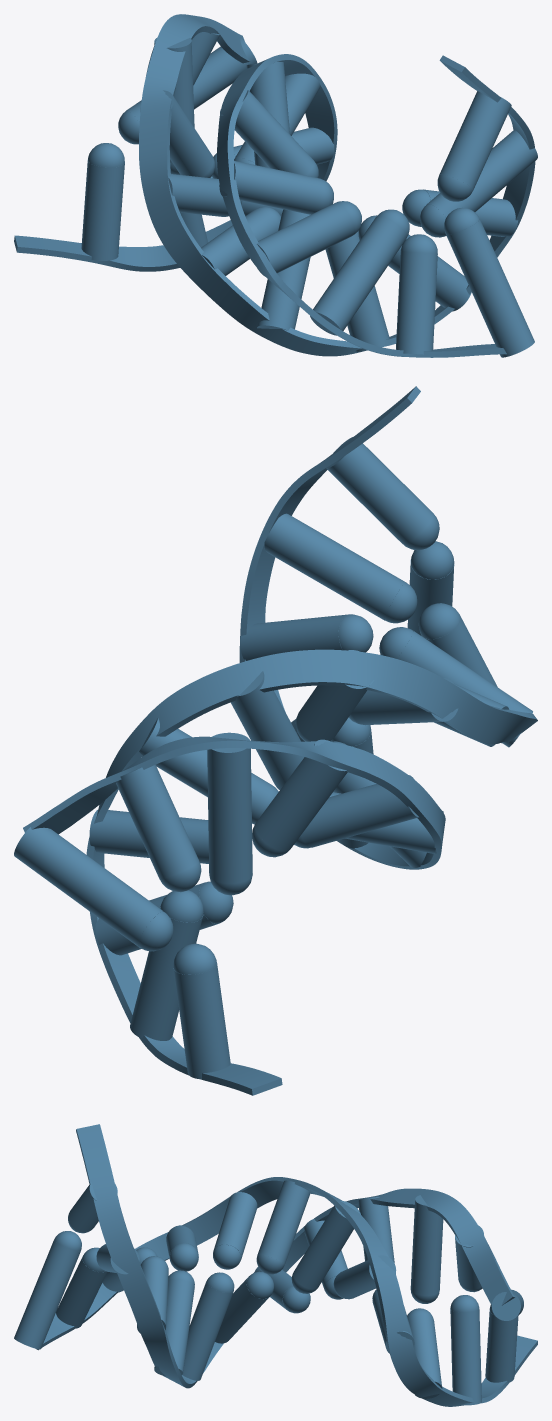
Rendered from NIH-1BNA-ribbon.glb.
The picture shows the model from 3 angles, top to bottom: view 1: azimuth 30°, elevation 25°; view 2: azimuth 150°, elevation 25°; view 3: azimuth 270°, elevation 25°; orthographic projection. The views are drawn at different scales.
Visible parts, largest first — view 1: nucleotides, ribbons; view 2: nucleotides, ribbons; view 3: nucleotides, ribbons.
Part boxes in pixels (x1,y1,x2,y2): nucleotides: (81,29,537,357); ribbons: (14,14,535,357); nucleotides: (14,436,532,1079); ribbons: (23,386,537,1095); nucleotides: (14,1180,523,1405); ribbons: (36,1124,537,1406).
Size of the model in its own units: 19.65 by 26.74 by 42.95.
